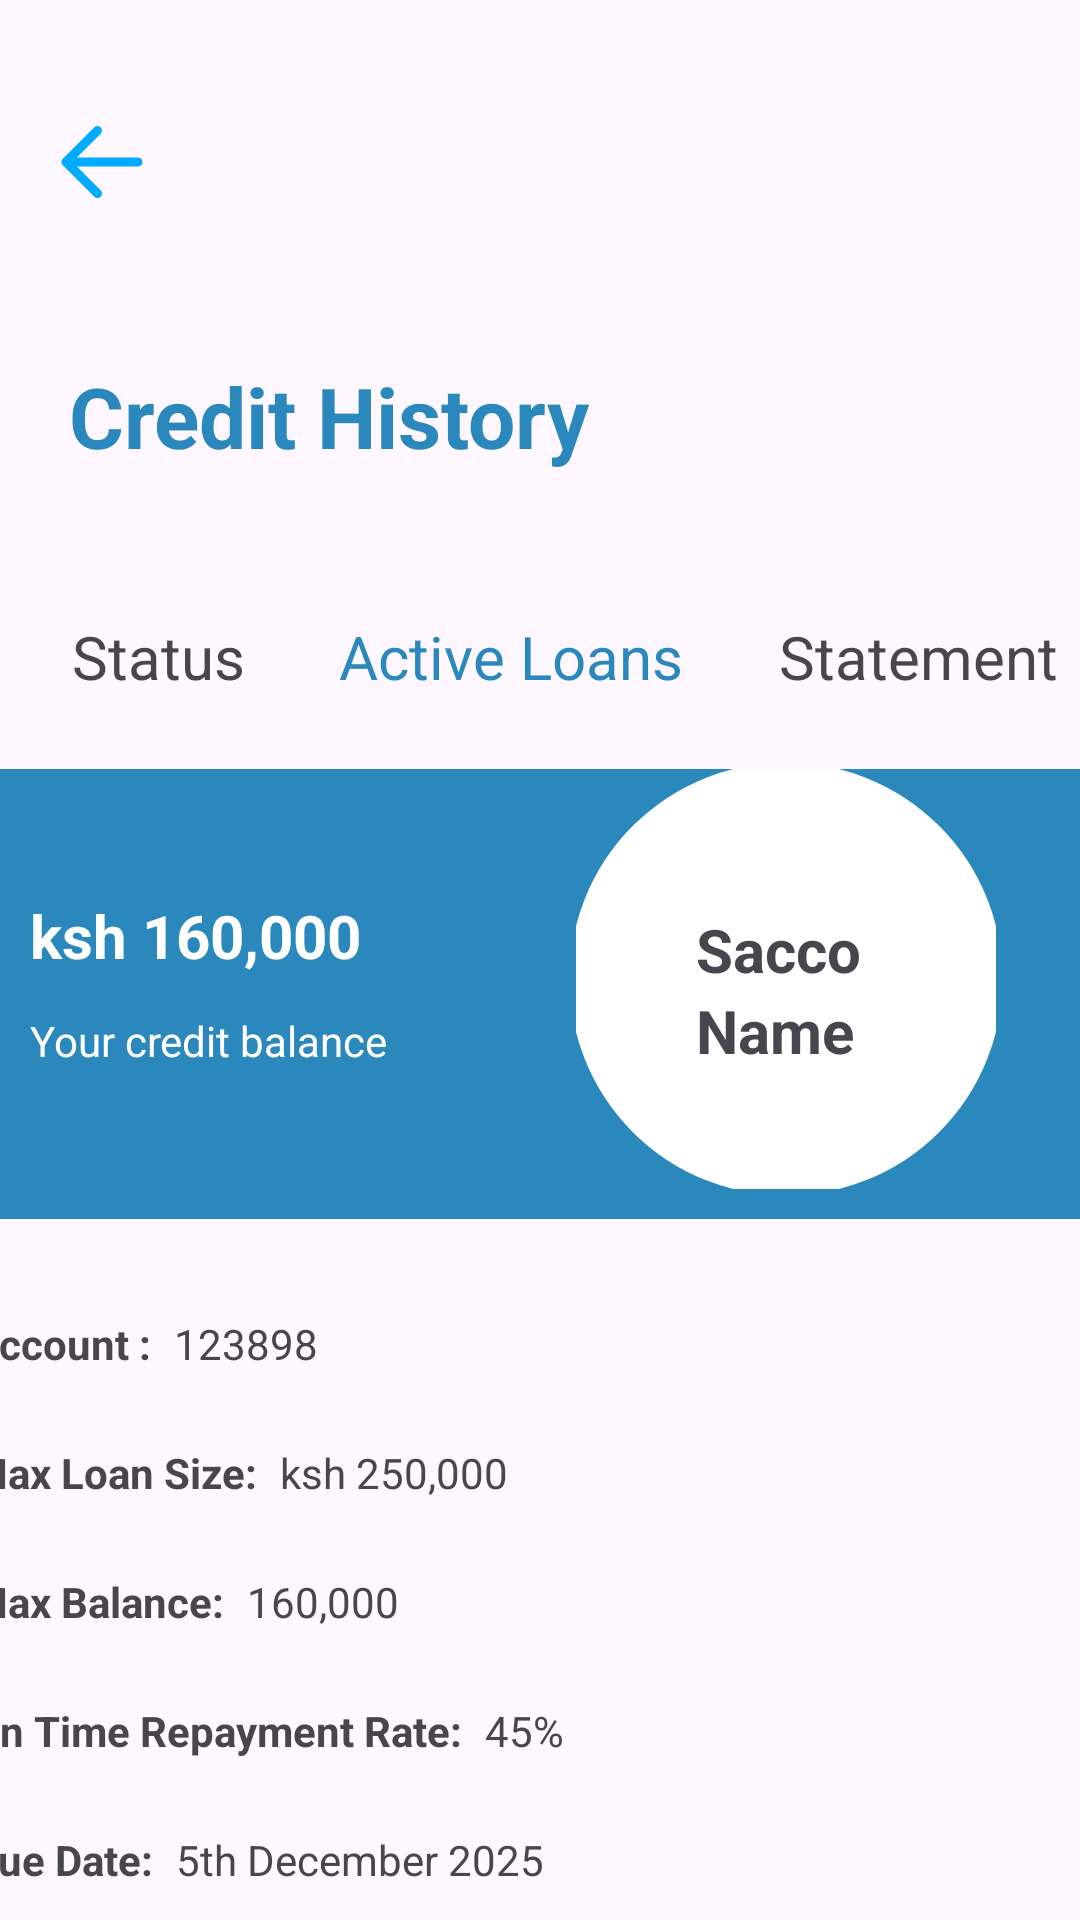

Icon click points for this 1080 × 1920 phone screenshot, format (x,y):
arrow: (102,162)
